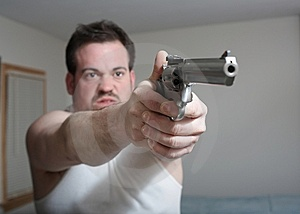gun: (155, 48, 240, 122)
